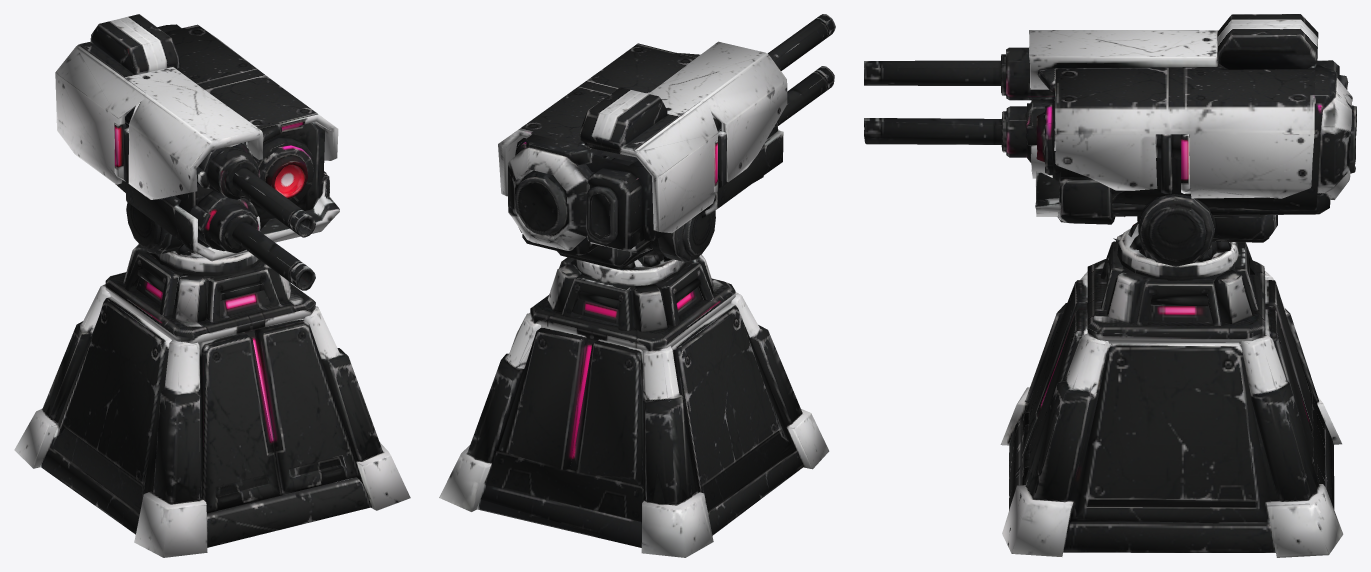
Rendered from turret.glb.
3 renders of one model, left to right at view 1: azimuth 30°, elevation 25°; view 2: azimuth 150°, elevation 25°; view 3: azimuth 270°, elevation 25°, orthographic. The views are drawn at different scales.
Size of the model in its own units: 0.6523 by 1 by 0.998.
Materials: 1 (1 with a texture image).
